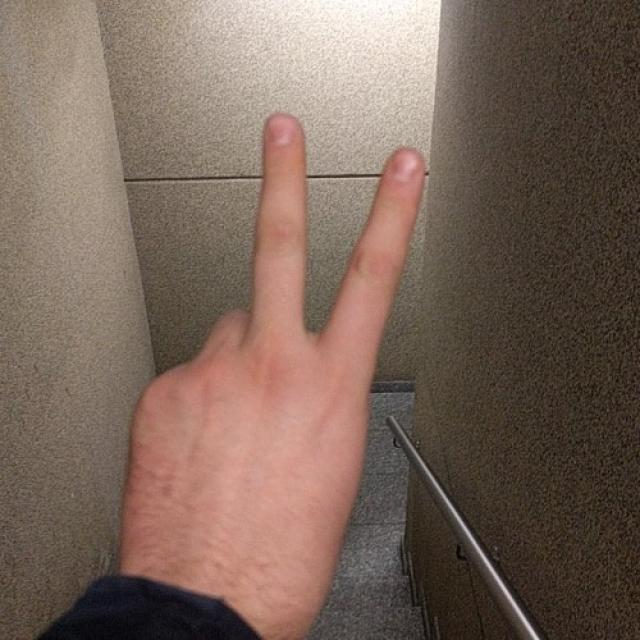scissors: (112, 109, 426, 560)
